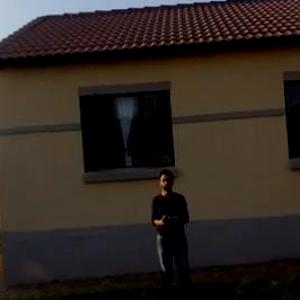follow: (150, 165, 195, 299)
